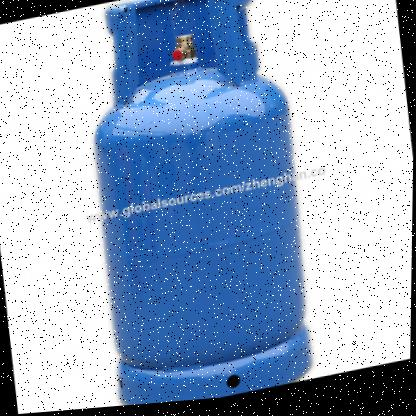gas-tank: (35, 0, 392, 412)
